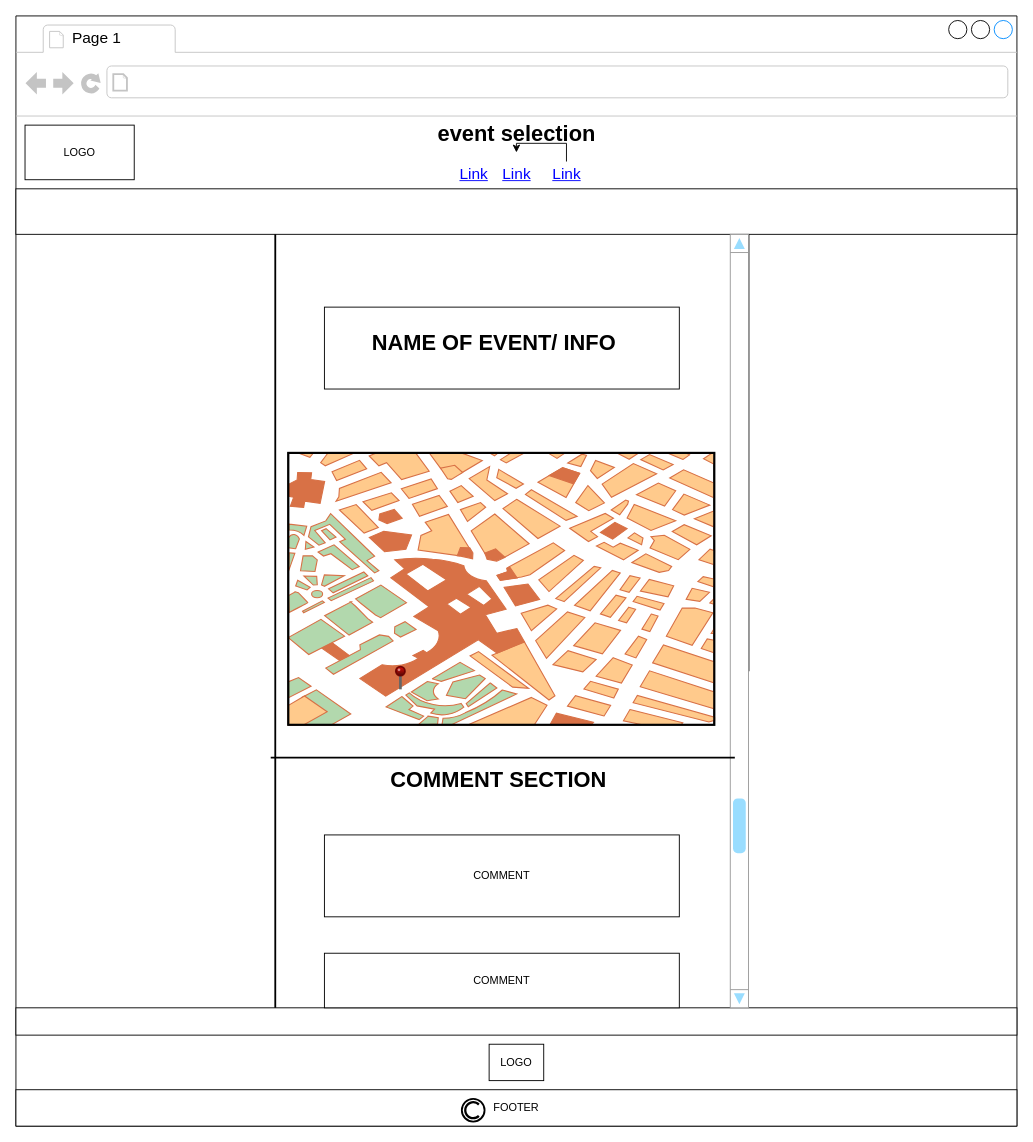
This 1033x1142 diagram has some shape labels left out. Each missing label, with the box of its shape:
BANNER/ COOL PIC: (15, 188, 1017, 234)
DISCLAIMER: (15, 1007, 1017, 1035)
https://www.draw.io: (133, 70, 362, 94)
